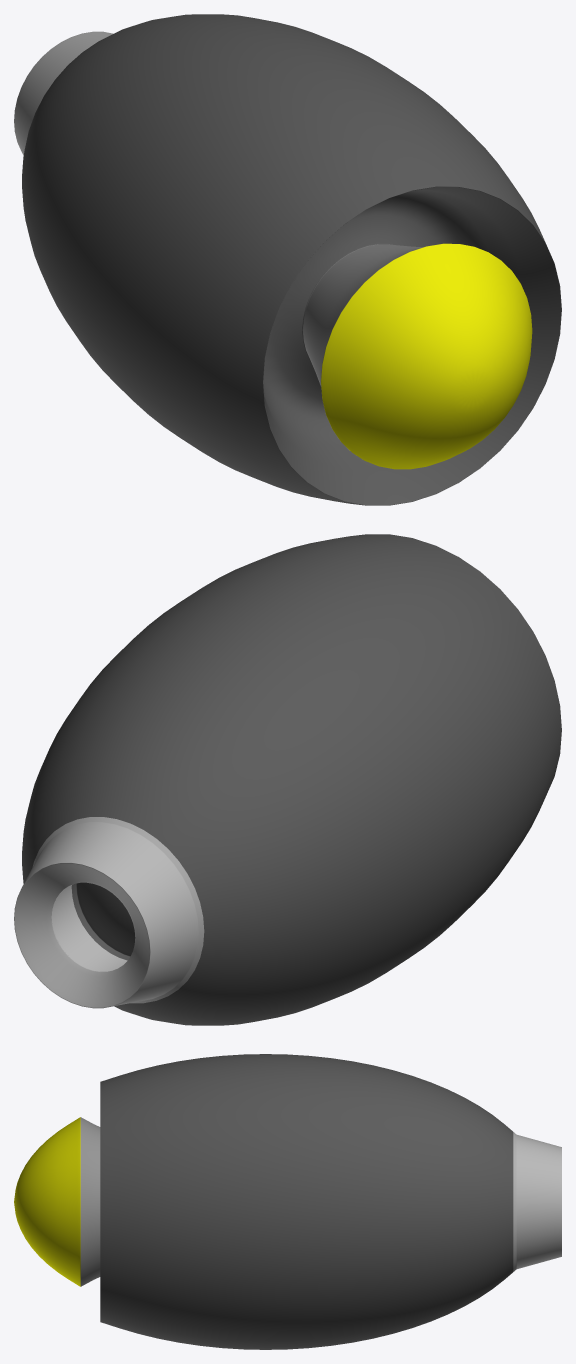
The model's file is ScenicDebris04.fbx.
3 renders of one model, top to bottom at view 1: azimuth 30°, elevation 25°; view 2: azimuth 150°, elevation 25°; view 3: azimuth 270°, elevation 25°, orthographic. The views are drawn at different scales.
Visible parts, largest first — view 1: pSphere3; view 2: pSphere3; view 3: pSphere3.
Part boxes in pixels (left/top/right/bottom): pSphere3: left=14, top=14, right=561, bottom=505; pSphere3: left=14, top=534, right=561, bottom=1025; pSphere3: left=14, top=1054, right=561, bottom=1349.
Bounding box in the file's own units: 11.18 × 11.13 × 20.61.
